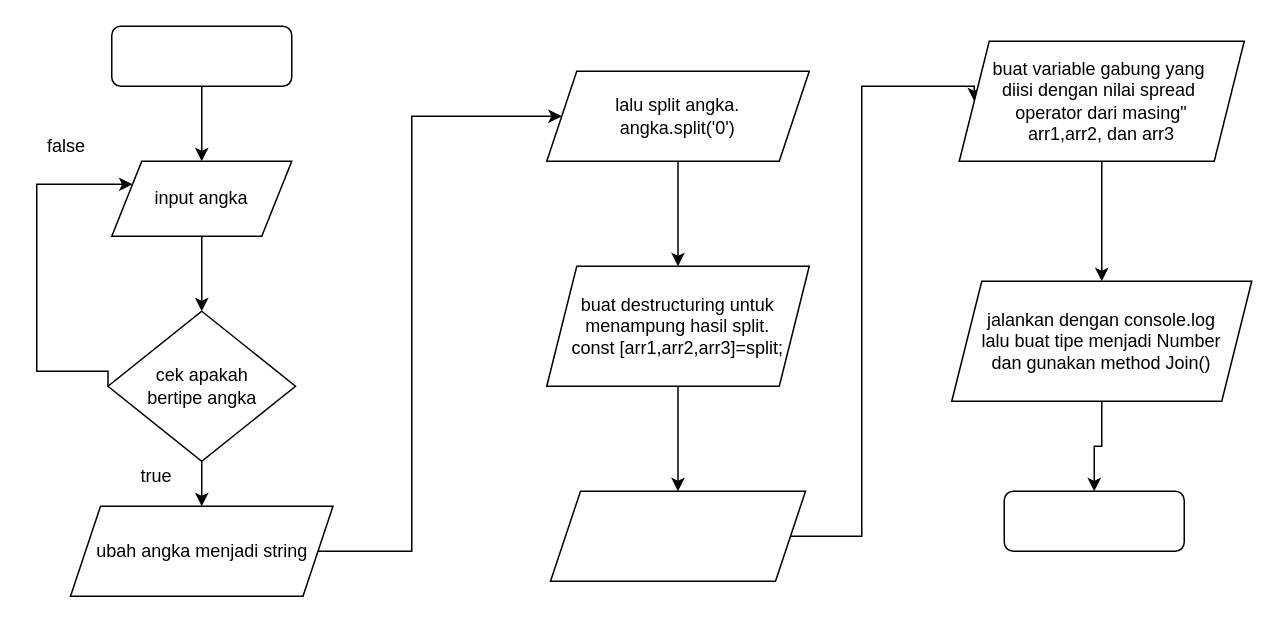
Image size: 1278x623. Some labels were removed from this diagram. The centre of each missing label's shape, as x and y in pixels:
Mulai: [201,55]
Selesai: [1093,520]
split dari masing" arr1,arr2,arr3 lalu sort: [677,535]
